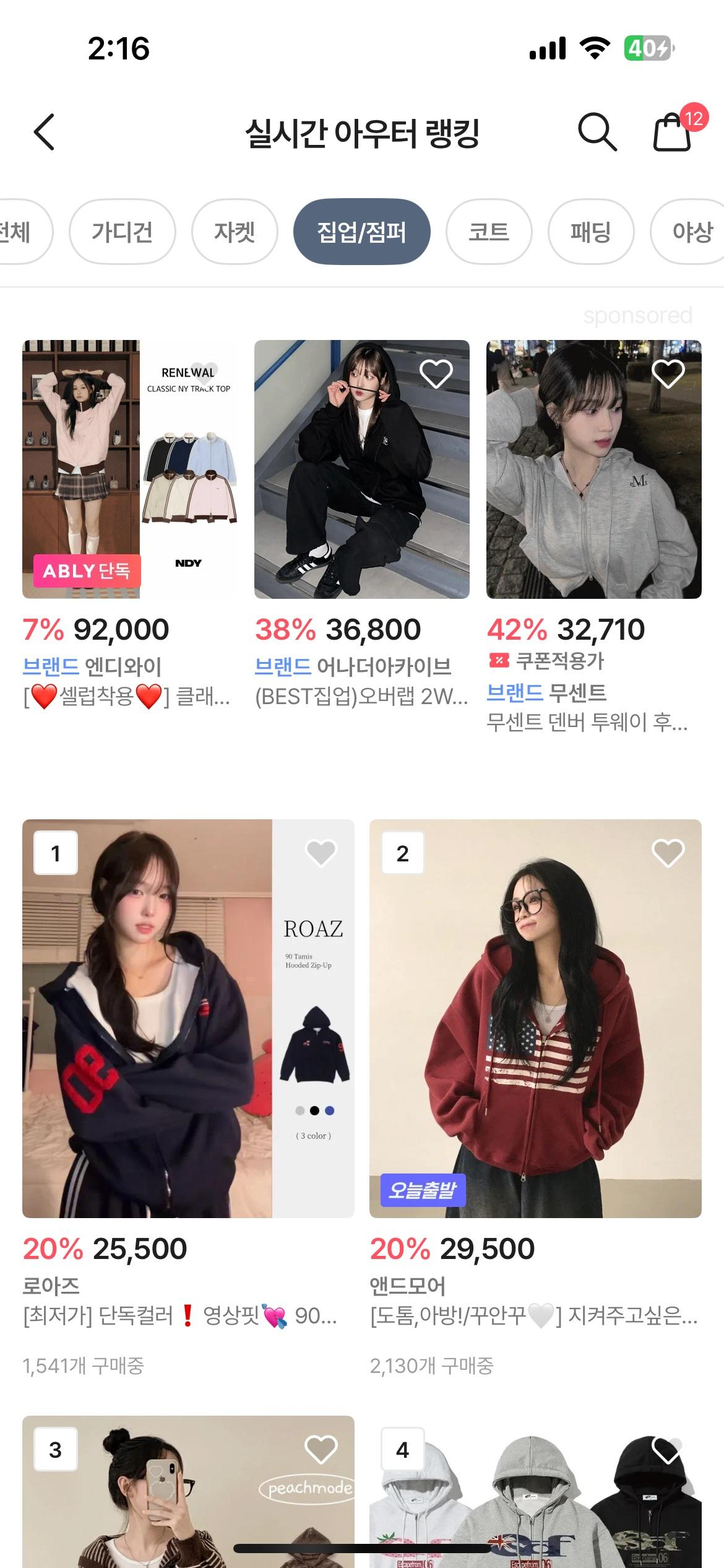button: (295, 196, 429, 270), (188, 194, 281, 266), (74, 196, 171, 262), (448, 200, 528, 260), (553, 200, 631, 258), (652, 99, 716, 155), (563, 105, 627, 159), (25, 105, 72, 159)
